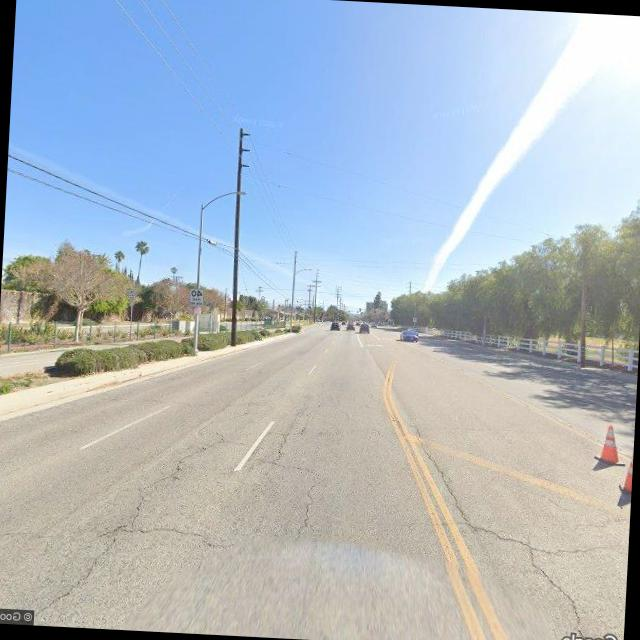crack: (394, 423, 612, 632), (37, 415, 231, 627), (406, 422, 486, 534), (452, 516, 630, 554), (526, 552, 592, 632), (129, 518, 252, 552), (292, 464, 324, 546), (264, 414, 297, 472)
